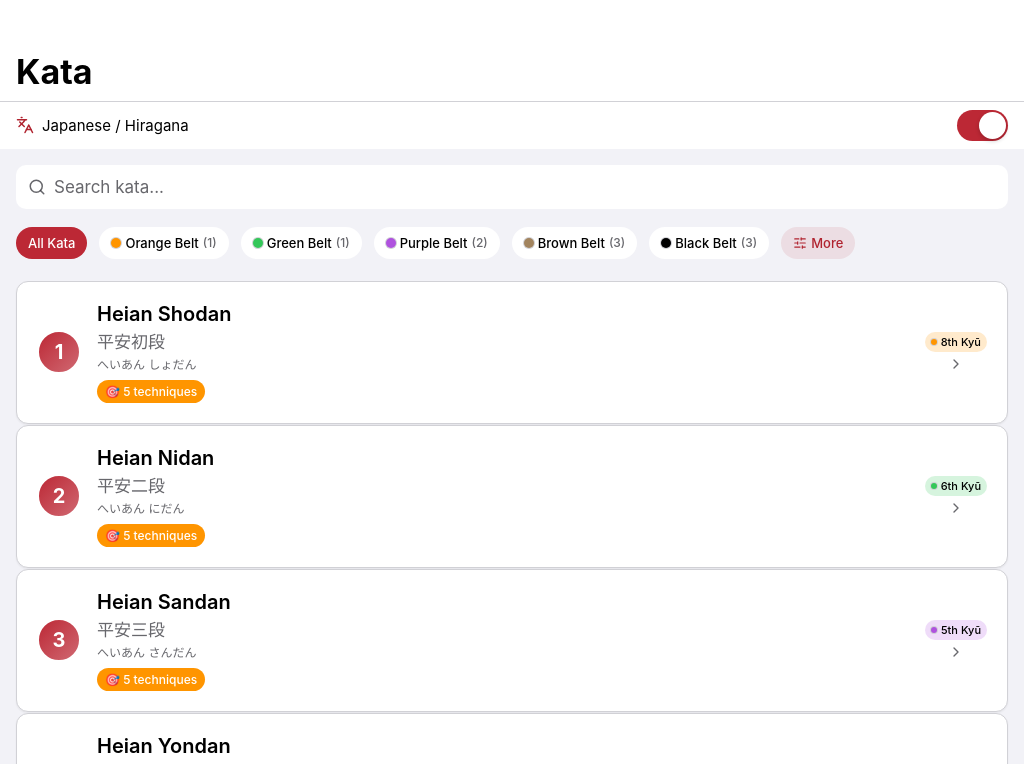
it: KataListScreen › shows the empty state with a clear button
The image size is (1024, 764).
Type "zzz" into the search field.
click(529, 187); type("zzz")  # box top-left (54, 169), bottom-right (1004, 205)
Wait 300 ms
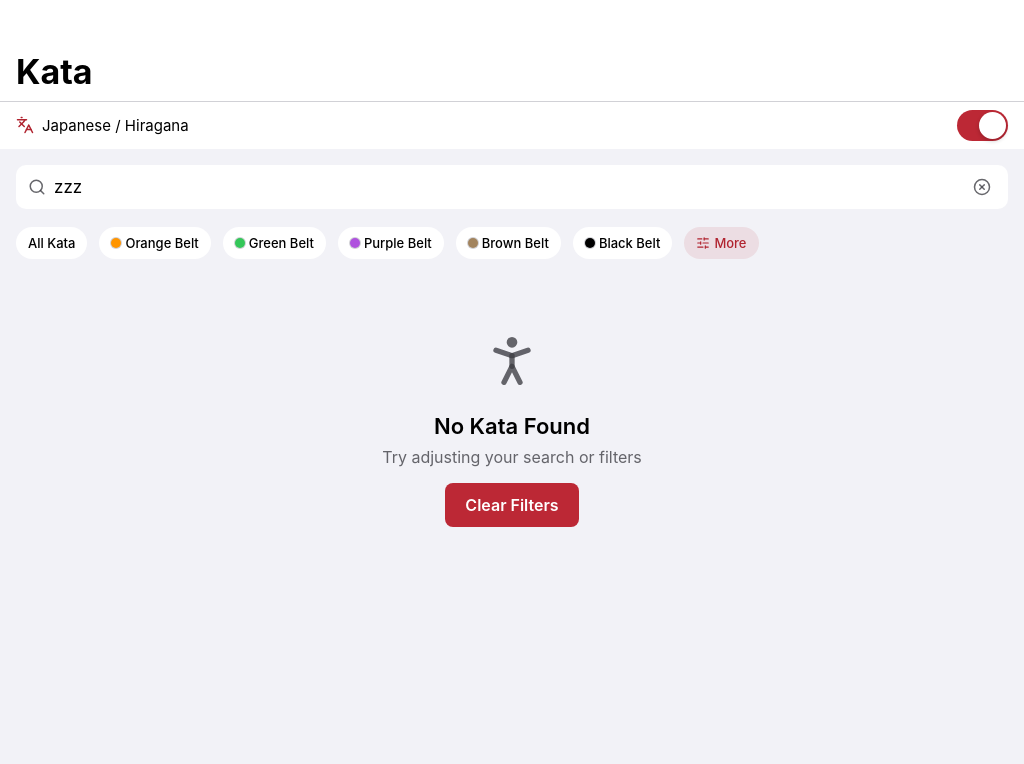
Now the heading "No Kata Found" is shown, box top-left (434, 413), bottom-right (590, 439)
Click the button "Clear Filters".
click(512, 505)  # box top-left (445, 483), bottom-right (579, 527)
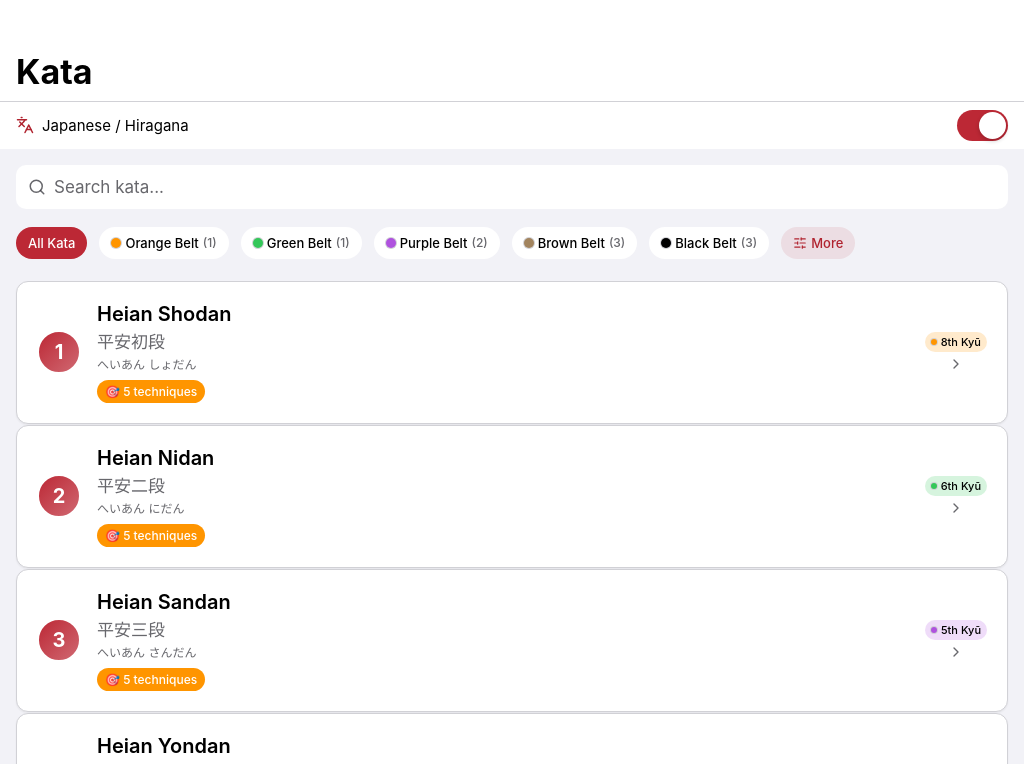
Now the number of links is 10
